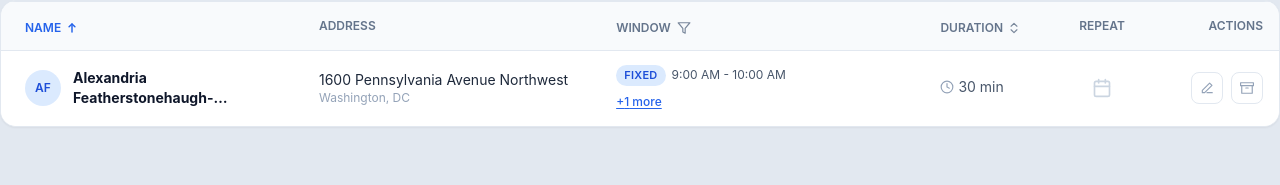
it: PatientsTable desktop › opens the +N more windows popover (portaled to body) and closes on Escape
Step 1. Click the button "+1 more" → click(639, 102), box top-left (616, 94), bottom-right (662, 110)
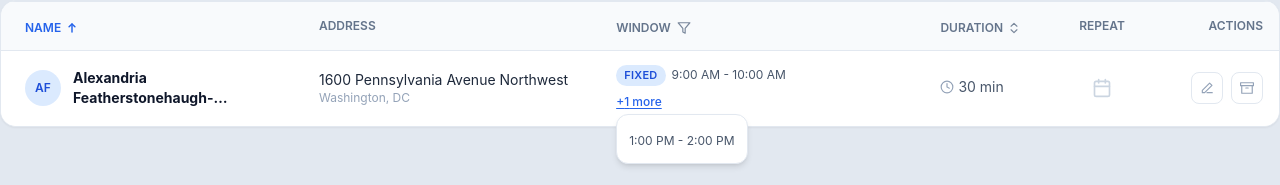
expect the text "1:00 PM - 2:00 PM" is shown: met, box top-left (629, 132), bottom-right (734, 148)
Step 2. Press Escape
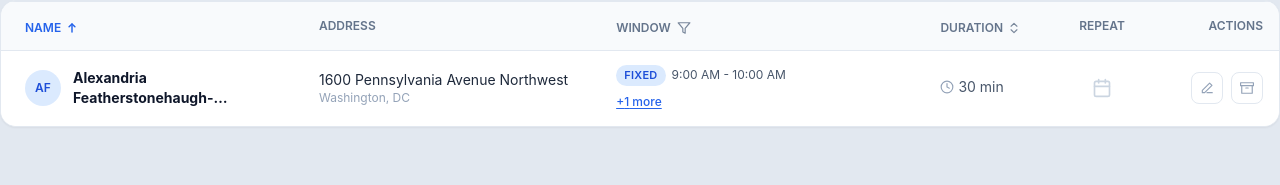
expect the text "1:00 PM - 2:00 PM" is gone: met
